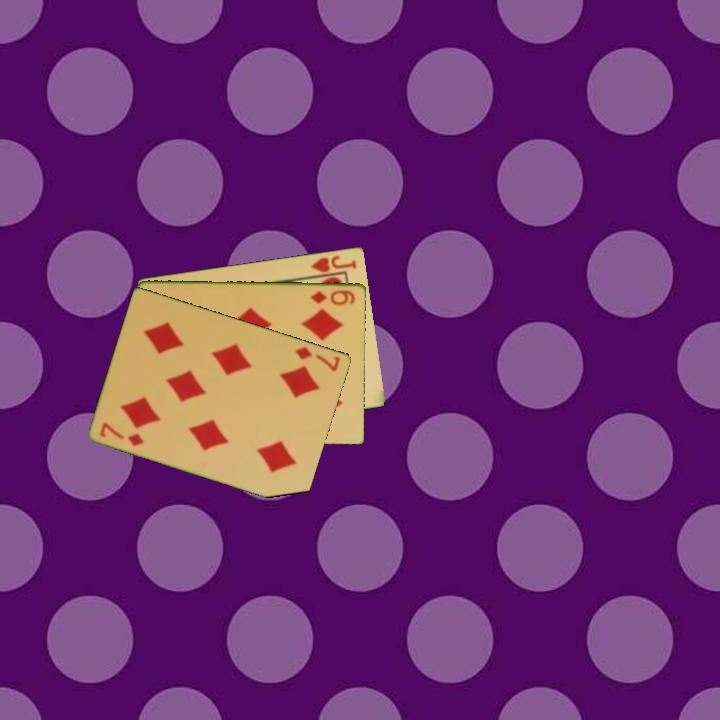6d: (308, 286, 358, 308)
7d: (291, 343, 343, 374), (96, 419, 147, 449)
Jh: (305, 252, 359, 280)
